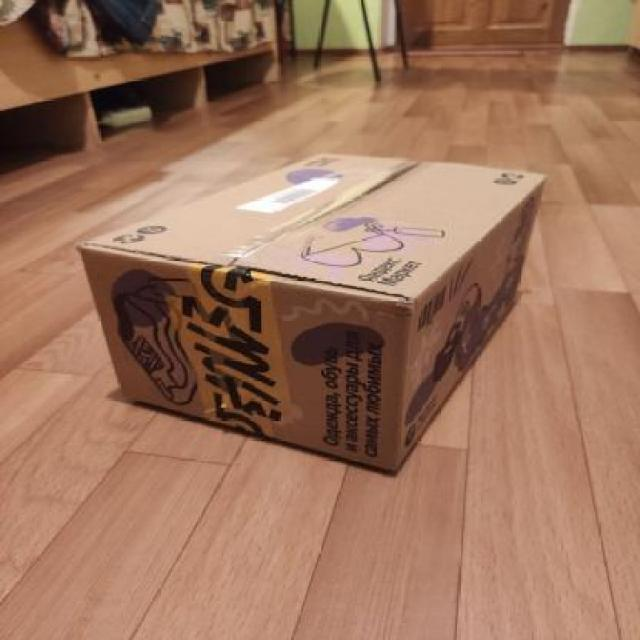box: (77, 144, 549, 476)
